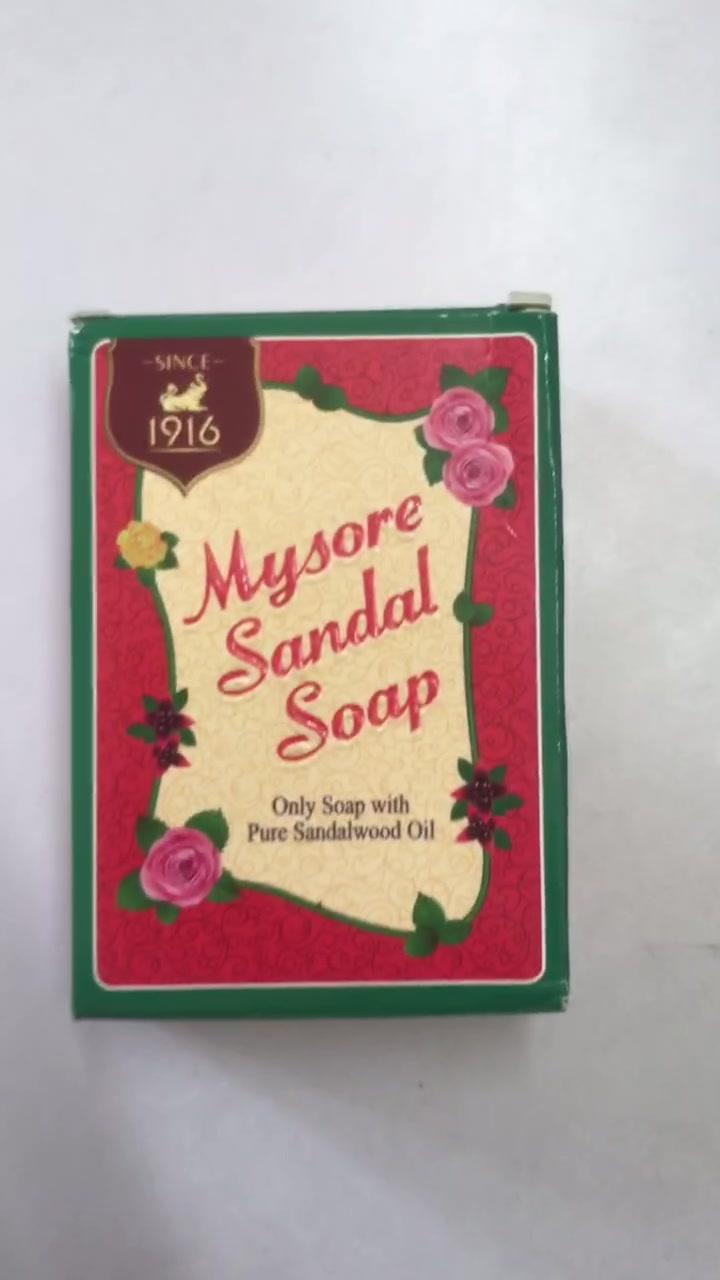mysore sandal soap: (71, 320, 562, 1016)
